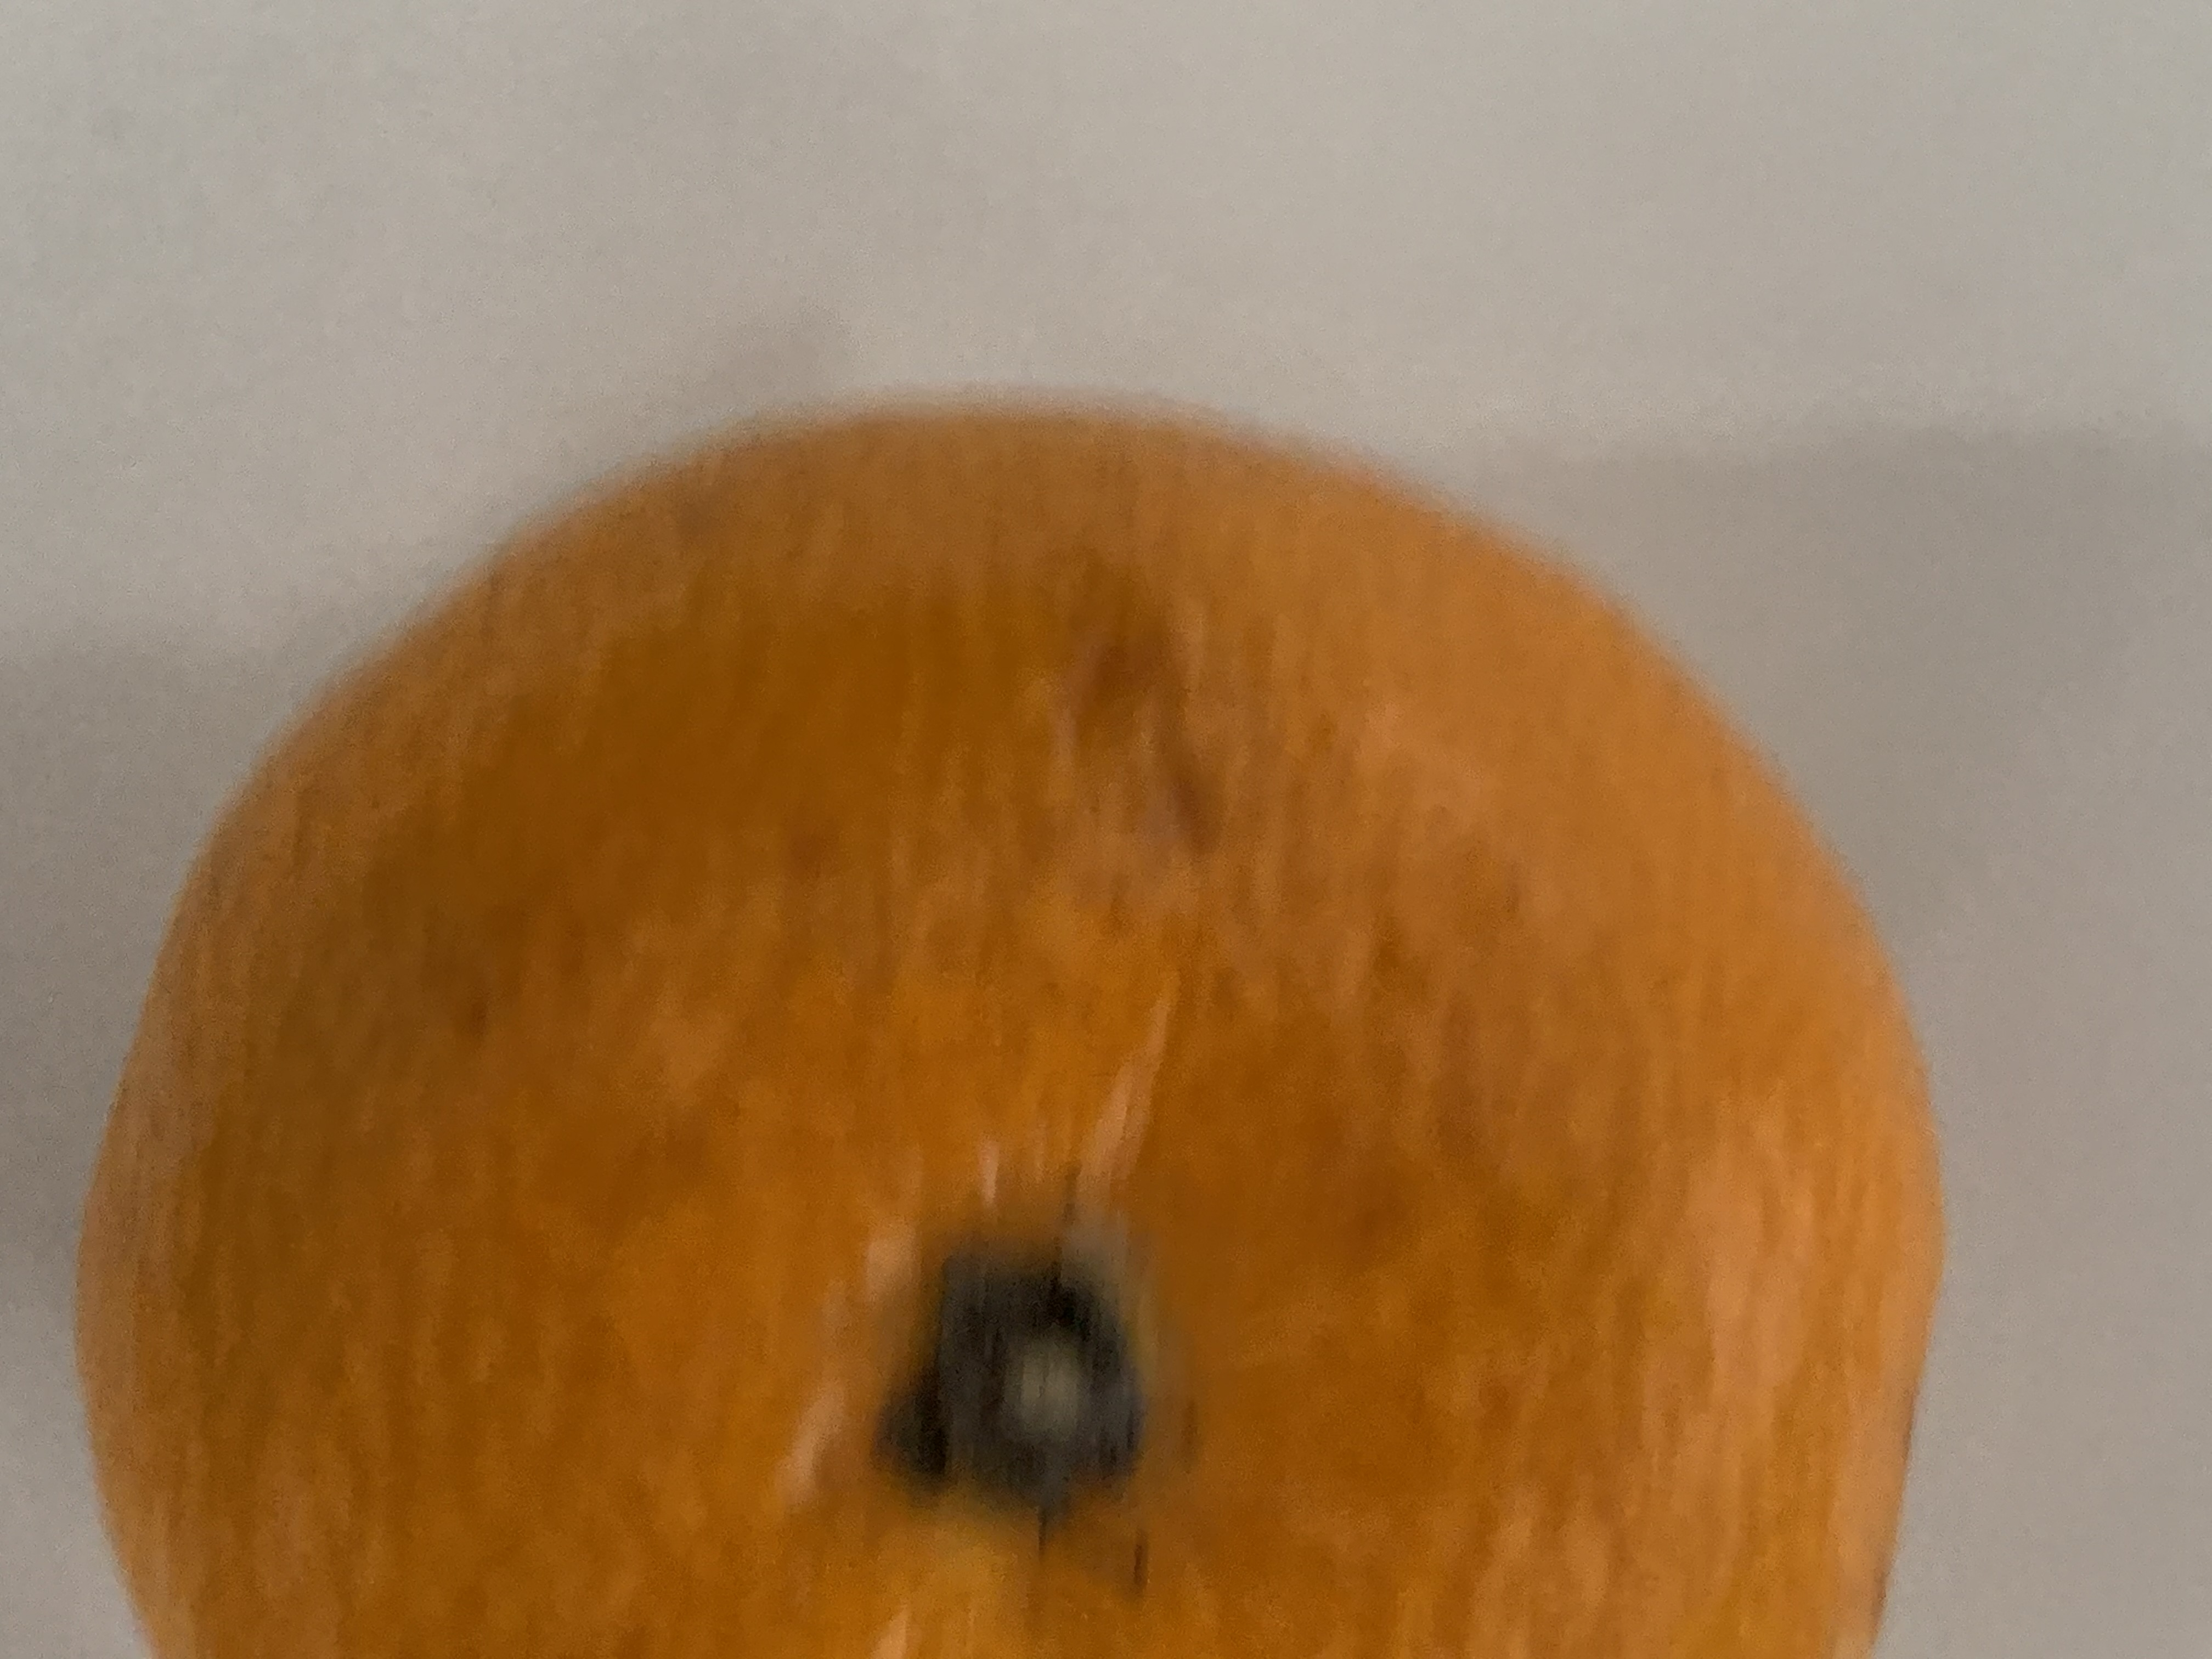orange: (98, 406, 1932, 1659)
